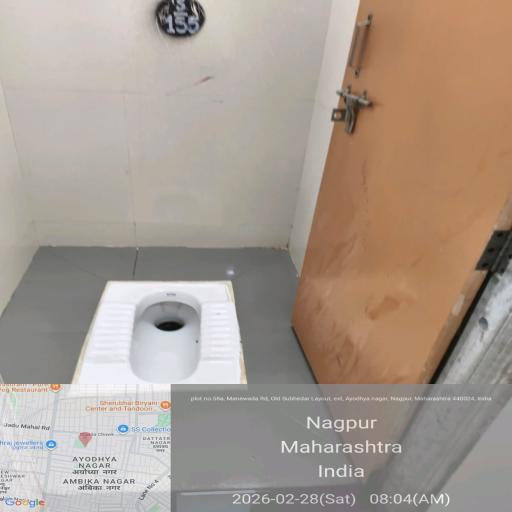clean_floor: (11, 3, 394, 251), (27, 385, 421, 512)
clean_indian: (58, 261, 268, 408)
